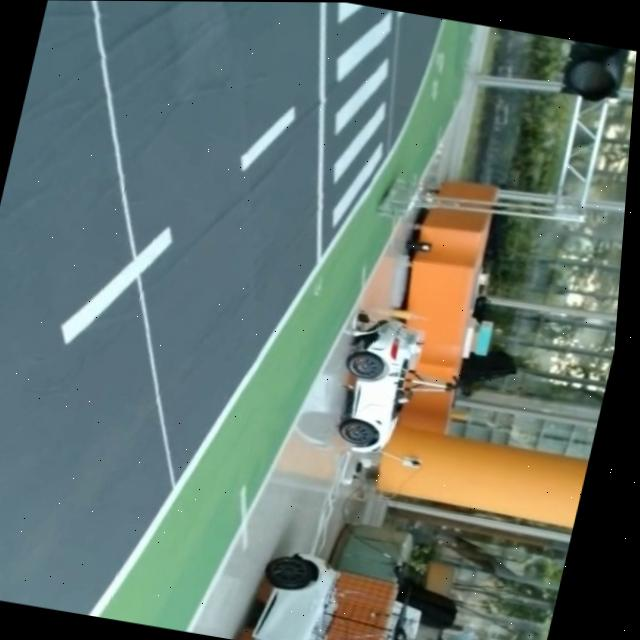traffic-light: (557, 41, 635, 108)
